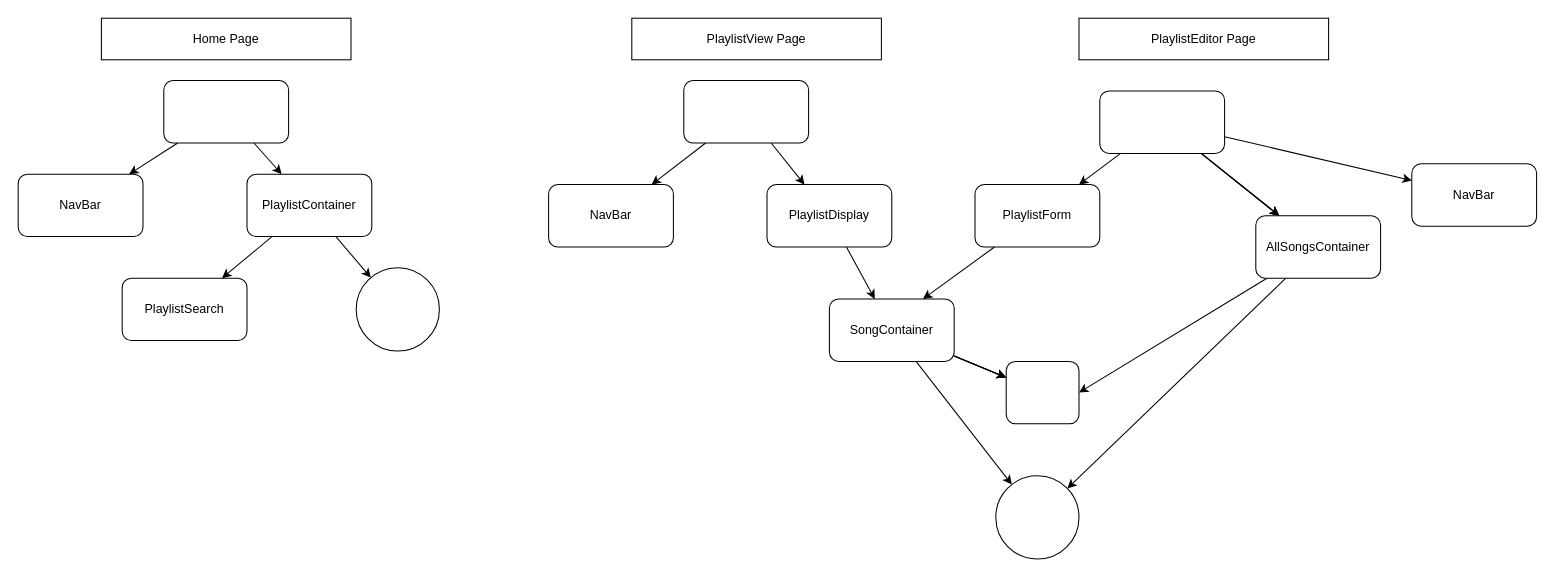
This 1555x577 diagram has some shape labels left out. The shapes that lost their labels are listed below. From the top down, each one's centre as x and y in pixels, then its label:
At point 226,111: "Home".
At point 746,111: "PlaylistView".
At point 1162,121: "PlaylistEditor".
At point 397,309: "PlaylistCard".
At point 1042,392: "SongSearch".
At point 1037,517: "SongCard".
